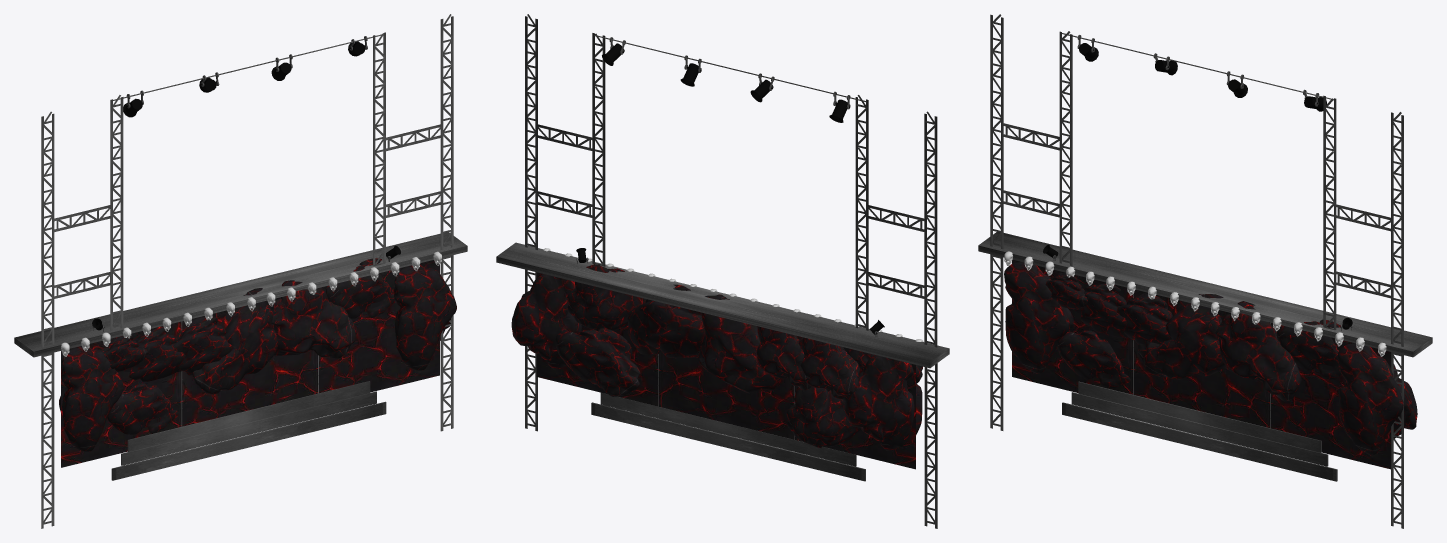
Rendered from stageee.FBX.
3 renders of one model, left to right at view 1: azimuth 30°, elevation 25°; view 2: azimuth 150°, elevation 25°; view 3: azimuth 330°, elevation 25°, orthographic.
Visible parts, largest first — view 1: Plane001, Box001, Rock_LowPoly003, Rock_LowPoly, Rock_LowPoly006, Rock_LowPoly005, Box032, Box033, Box034, Rock_LowPoly002, Rock_LowPoly009, Rock_LowPoly004 (+11 smaller); view 2: Plane001, Box001, Rock_LowPoly, Rock_LowPoly005, Rock_LowPoly003, Rock_LowPoly007, Rock_LowPoly006, Box032, Box033, Rock_LowPoly002, Rock_LowPoly004, Rock_LowPoly008 (+10 smaller); view 3: Plane001, Box001, Rock_LowPoly003, Rock_LowPoly, Rock_LowPoly006, Rock_LowPoly005, Box032, Box033, Box034, Rock_LowPoly002, Rock_LowPoly004, Rock_LowPoly009 (+11 smaller).
Part boxes in pixels (box(x1,y1,x2,y2)): Plane001: box(61, 260, 439, 467); Box001: box(14, 232, 467, 357); Rock_LowPoly003: box(393, 264, 456, 370); Rock_LowPoly: box(59, 346, 123, 451); Rock_LowPoly006: box(271, 280, 355, 358); Rock_LowPoly005: box(192, 288, 278, 394); Box032: box(111, 401, 386, 480); Box033: box(121, 391, 376, 465); Box034: box(127, 381, 370, 451); Rock_LowPoly002: box(107, 383, 179, 434); Rock_LowPoly009: box(170, 317, 233, 375); Rock_LowPoly004: box(326, 258, 394, 318); Plane001: box(536, 272, 915, 469); Box001: box(496, 242, 949, 368); Rock_LowPoly: box(844, 355, 922, 450); Rock_LowPoly005: box(696, 294, 780, 393); Rock_LowPoly003: box(511, 273, 581, 369); Rock_LowPoly007: box(555, 328, 640, 396); Rock_LowPoly006: box(627, 284, 705, 358); Box032: box(591, 402, 865, 481); Box033: box(600, 392, 856, 466); Rock_LowPoly002: box(786, 386, 861, 447); Rock_LowPoly004: box(567, 264, 646, 330); Rock_LowPoly008: box(798, 337, 859, 401); Plane001: box(1012, 260, 1390, 469); Box001: box(978, 232, 1432, 357); Rock_LowPoly003: box(1337, 343, 1417, 455); Rock_LowPoly: box(1004, 262, 1074, 373); Rock_LowPoly006: box(1215, 301, 1301, 401); Rock_LowPoly005: box(1138, 294, 1224, 379); Box032: box(1062, 402, 1337, 481); Box033: box(1071, 392, 1328, 466); Box034: box(1078, 381, 1321, 452); Rock_LowPoly002: box(1057, 330, 1130, 388); Rock_LowPoly004: box(1276, 319, 1342, 379); Rock_LowPoly009: box(1116, 293, 1172, 344).
Size of the model in its own units: 2095 by 1915 by 222.
Materials: 5 (2 with a texture image).
